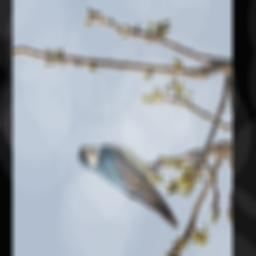Swallow: (70, 137, 184, 231)
